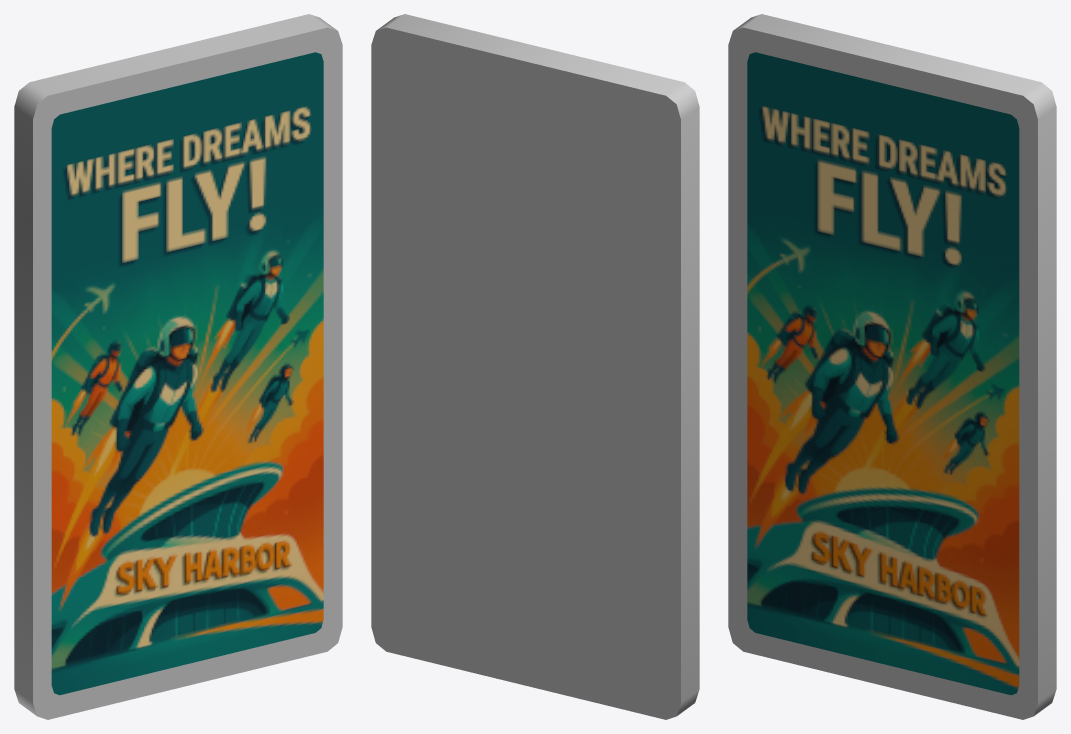
File: Billboard_1x2_04.fbx
3 views of the same model, side by side, from view 1: azimuth 30°, elevation 25°; view 2: azimuth 150°, elevation 25°; view 3: azimuth 330°, elevation 25° (orthographic).
Visible parts, largest first — view 1: Billboard_1x2_04; view 2: Billboard_1x2_04; view 3: Billboard_1x2_04.
Boxes of the visible parts, <box> form: Billboard_1x2_04: <box>14,14,342,719</box>; Billboard_1x2_04: <box>371,14,699,719</box>; Billboard_1x2_04: <box>728,14,1056,719</box>.
Bounding box in the file's own units: 566 × 58.49 × 1090.
